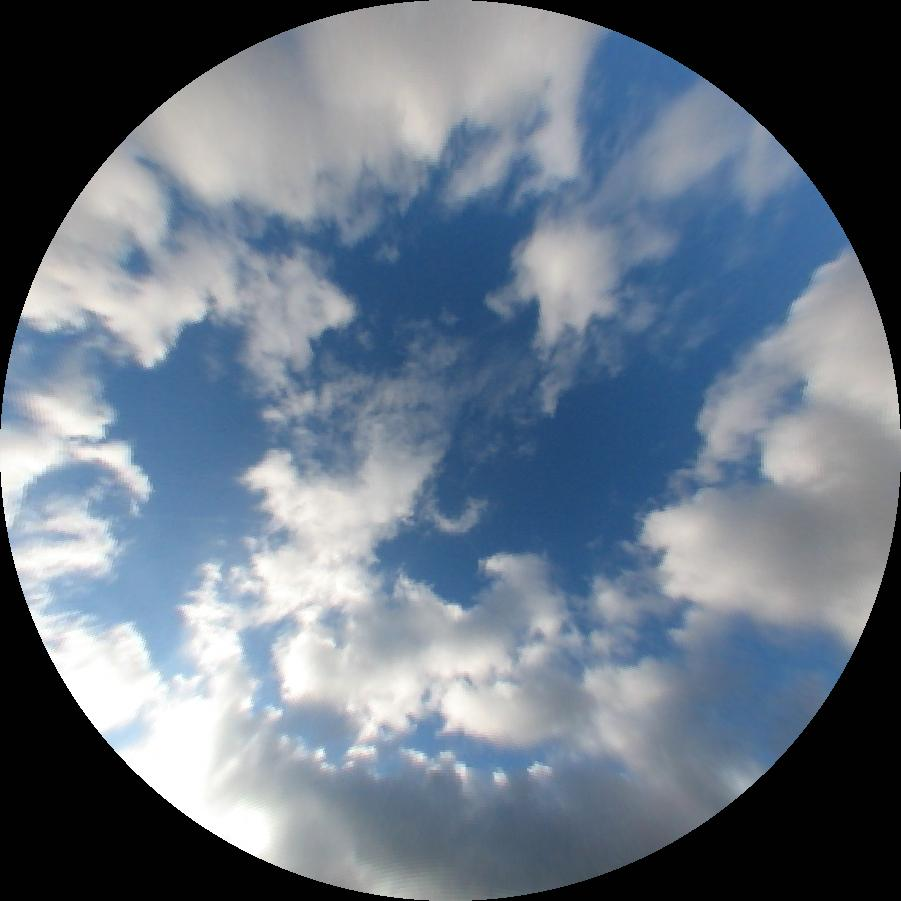parasite: (115, 514, 263, 523)
